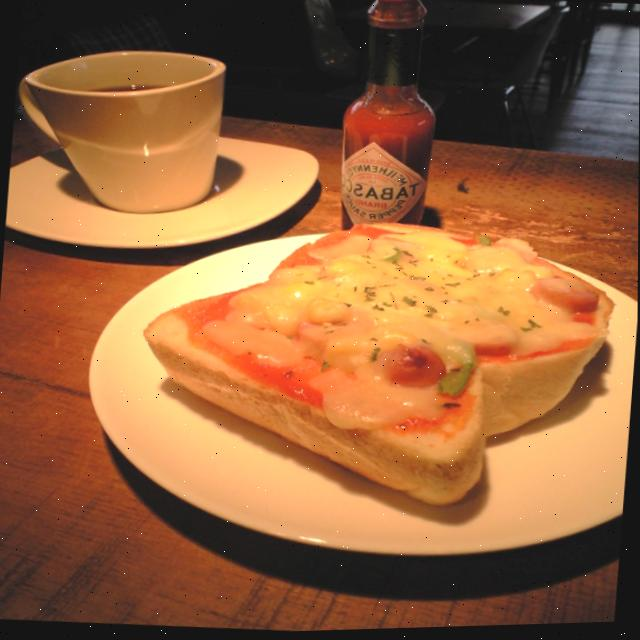面包点心: (79, 187, 639, 578)
